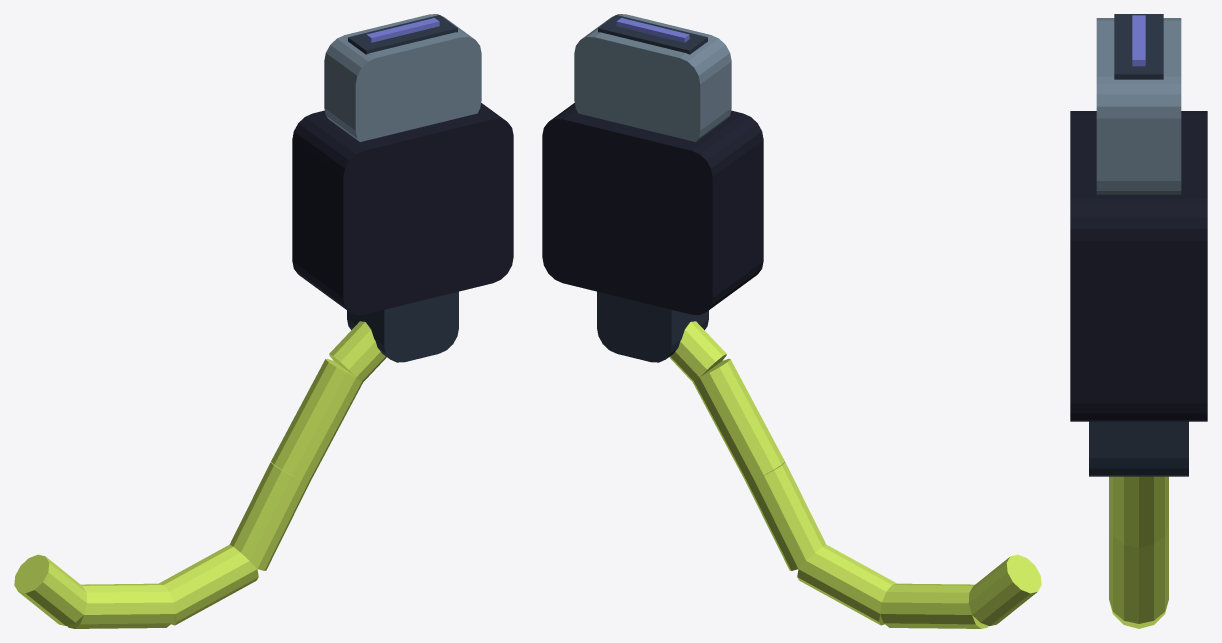
Rendered from usbc.glb.
3 renders of one model, left to right at view 1: azimuth 30°, elevation 25°; view 2: azimuth 150°, elevation 25°; view 3: azimuth 270°, elevation 25°, orthographic. The views are drawn at different scales.
Visible parts, largest first — view 1: plug sleeve, metal plug, rubber cable4, strain relief, rubber cable3, rubber cable1, rubber cable2, rubber cable0, rubber cable5, plug opening, contact tongue; view 2: plug sleeve, metal plug, rubber cable4, strain relief, rubber cable3, rubber cable1, rubber cable2, rubber cable0, rubber cable5, plug opening, contact tongue; view 3: plug sleeve, metal plug, strain relief, rubber cable3, rubber cable4, plug opening, contact tongue, rubber cable2.
Part boxes in pixels (box(x1,y1,x2,y2)): plug sleeve: box(292, 103, 513, 314); metal plug: box(324, 14, 481, 141); rubber cable4: box(271, 358, 362, 481); strain relief: box(347, 291, 458, 362); rubber cable3: box(230, 462, 309, 570); rubber cable1: box(67, 583, 175, 628); rubber cable2: box(159, 544, 258, 625); rubber cable0: box(14, 554, 87, 626); rubber cable5: box(329, 321, 386, 381); plug opening: box(348, 15, 457, 54); contact tongue: box(366, 18, 439, 42); plug sleeve: box(542, 103, 763, 314); metal plug: box(574, 14, 731, 141); rubber cable4: box(693, 358, 784, 481); strain relief: box(597, 291, 708, 362); rubber cable3: box(746, 462, 825, 570); rubber cable1: box(880, 583, 988, 628); rubber cable2: box(797, 544, 896, 625); rubber cable0: box(968, 554, 1041, 626); rubber cable5: box(669, 321, 726, 381); plug opening: box(598, 15, 707, 54); contact tongue: box(616, 18, 689, 42); plug sleeve: box(1070, 111, 1207, 421); metal plug: box(1096, 18, 1181, 194); strain relief: box(1089, 421, 1188, 476); rubber cable3: box(1109, 524, 1168, 623); rubber cable4: box(1109, 476, 1168, 547); plug opening: box(1114, 14, 1163, 79); contact tongue: box(1132, 15, 1145, 66); rubber cable2: box(1109, 602, 1168, 628).
Size of the model in its own units: 1.38 by 1.51 by 0.26.
